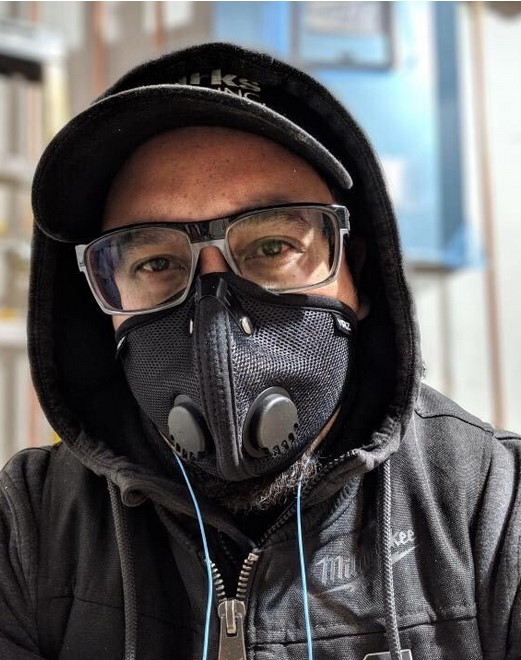face_with_mask: (60, 42, 368, 494)
